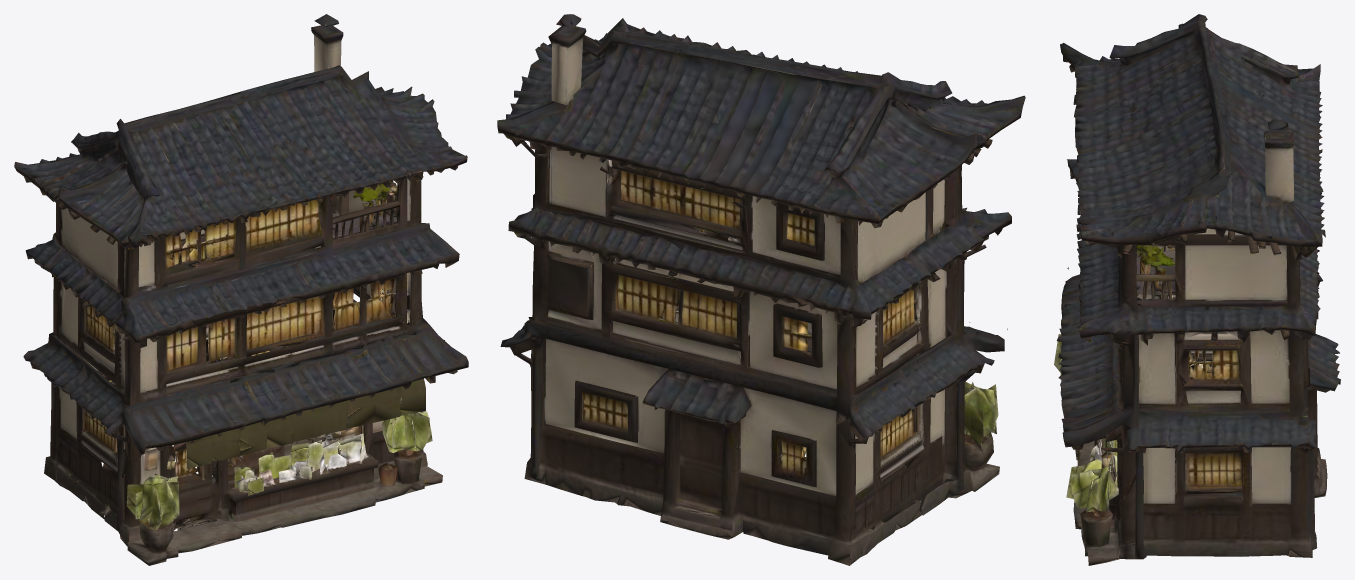
Rendered from candidate.glb.
3 renders of one model, left to right at view 1: azimuth 30°, elevation 25°; view 2: azimuth 150°, elevation 25°; view 3: azimuth 270°, elevation 25°, orthographic. The views are drawn at different scales.
Parts seen in each view (by area): view 1: compact__shop_3__native_mobile; view 2: compact__shop_3__native_mobile; view 3: compact__shop_3__native_mobile.
Part boxes in pixels (x1=…): compact__shop_3__native_mobile: x1=14, y1=14, x2=468, y2=565; compact__shop_3__native_mobile: x1=497, y1=14, x2=1025, y2=565; compact__shop_3__native_mobile: x1=1054, y1=14, x2=1340, y2=565.
Size of the model in its own units: 0.9572 by 1 by 0.5991.
Materials: 1 (1 with a texture image).
